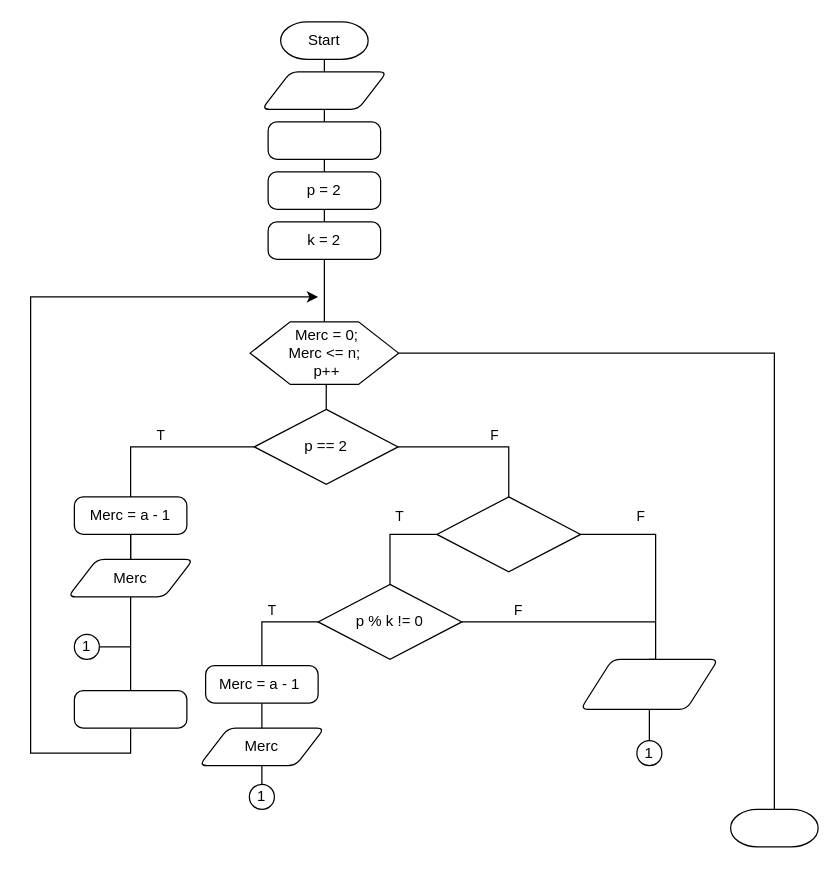
Image size: 840x869. Some labels were removed from this diagram. Each missing label, with the centre of its shape:
a *= 2: point 130,708
a = 4: point 324,140
End: point 773,827
k <= p: point 508,534
n є R: point 324,90
Число р не просте: point 648,683
